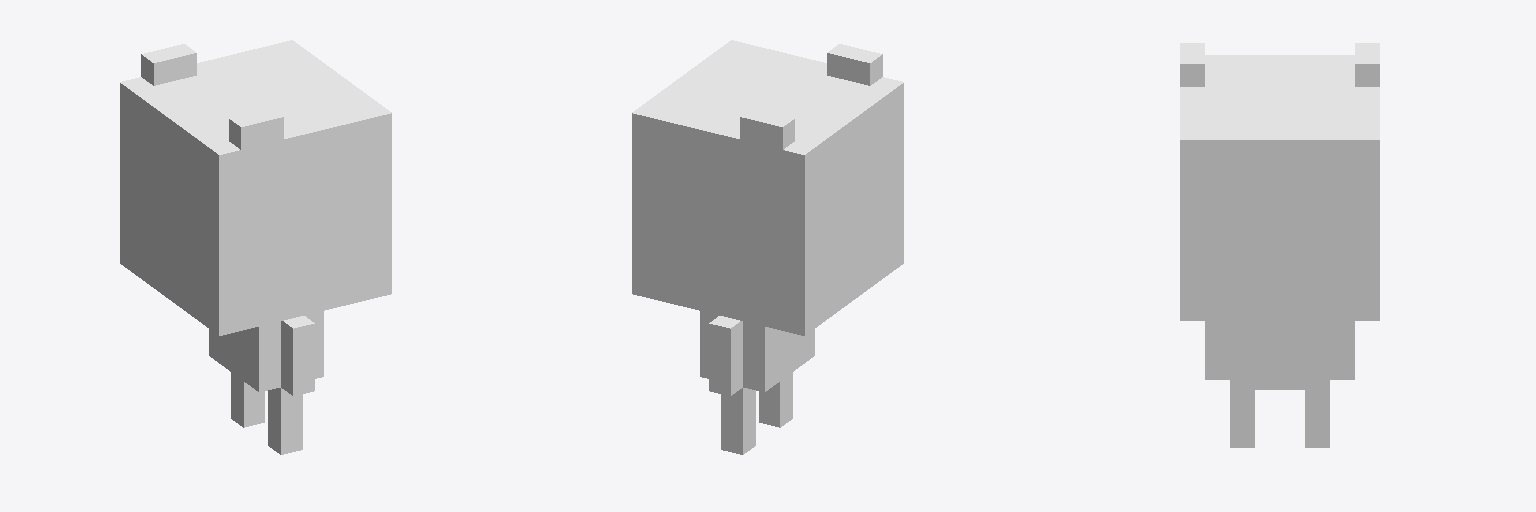
The model's file is Pikey.obj.
3 renders of one model, left to right at view 1: azimuth 30°, elevation 25°; view 2: azimuth 150°, elevation 25°; view 3: azimuth 270°, elevation 25°, orthographic.
Visible parts, largest first — view 1: object 1; view 2: object 1; view 3: object 1.
Part boxes in pixels (bbox=[...]): object 1: bbox=[120, 40, 391, 454]; object 1: bbox=[632, 40, 903, 454]; object 1: bbox=[1180, 43, 1379, 447].
Size of the model in its own units: 0.8 by 1.6 by 0.8.